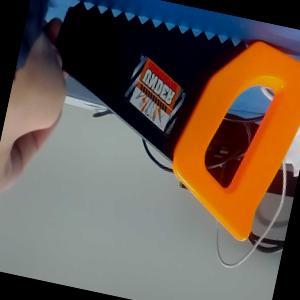serrote: (30, 0, 299, 244)
